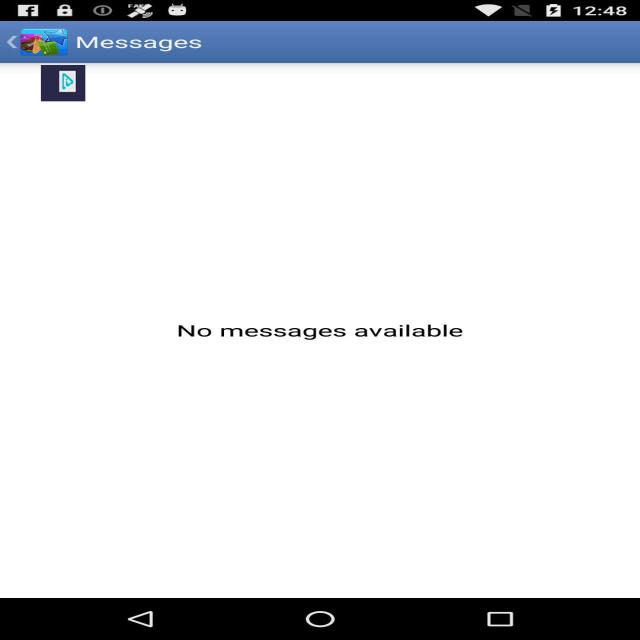sneaking: (41, 65, 85, 101)
